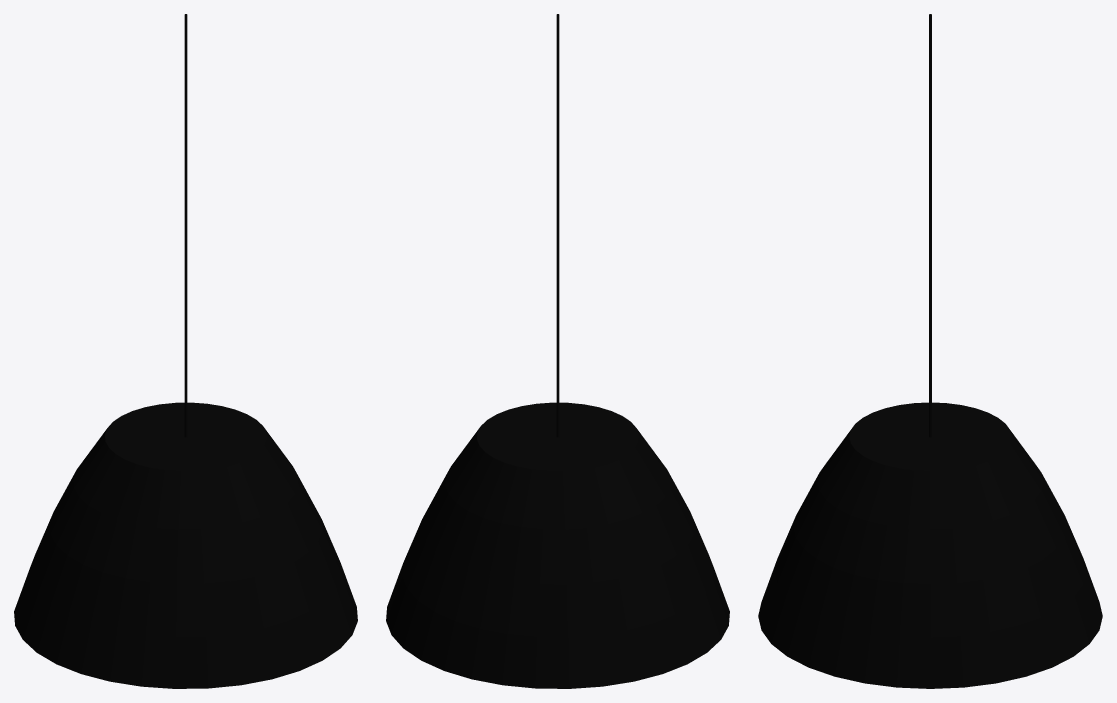
The model's file is lamp2.obj.
3 views of the same model, side by side, from view 1: azimuth 30°, elevation 25°; view 2: azimuth 150°, elevation 25°; view 3: azimuth 270°, elevation 25° (orthographic).
Parts seen in each view (by area): view 1: Cylinder.002_Material.017; view 2: Cylinder.002_Material.017; view 3: Cylinder.002_Material.017.
Boxes of the visible parts, box(x1,y1,x2,y2) form: Cylinder.002_Material.017: box(14, 14, 357, 688); Cylinder.002_Material.017: box(386, 14, 729, 688); Cylinder.002_Material.017: box(758, 14, 1102, 688).
Size of the model in its own units: 0.3655 by 0.704 by 0.3655.
1 material, 1 textured.
